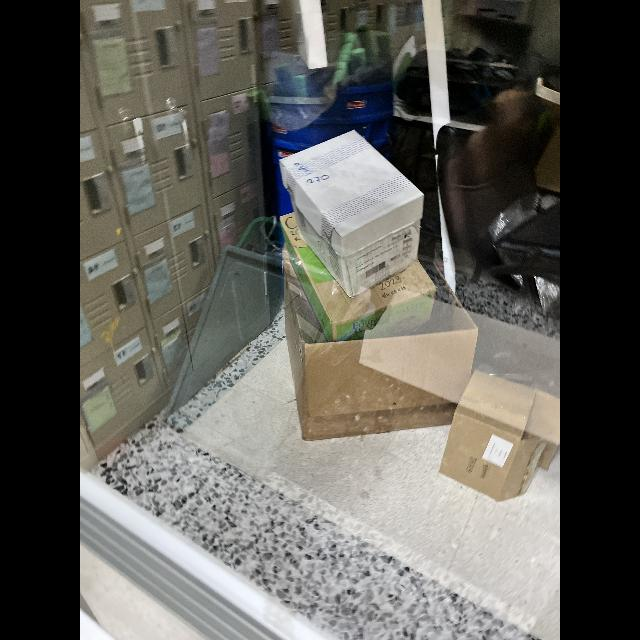cardboard_box: (269, 270, 476, 436), (276, 124, 428, 304), (438, 366, 560, 496)
